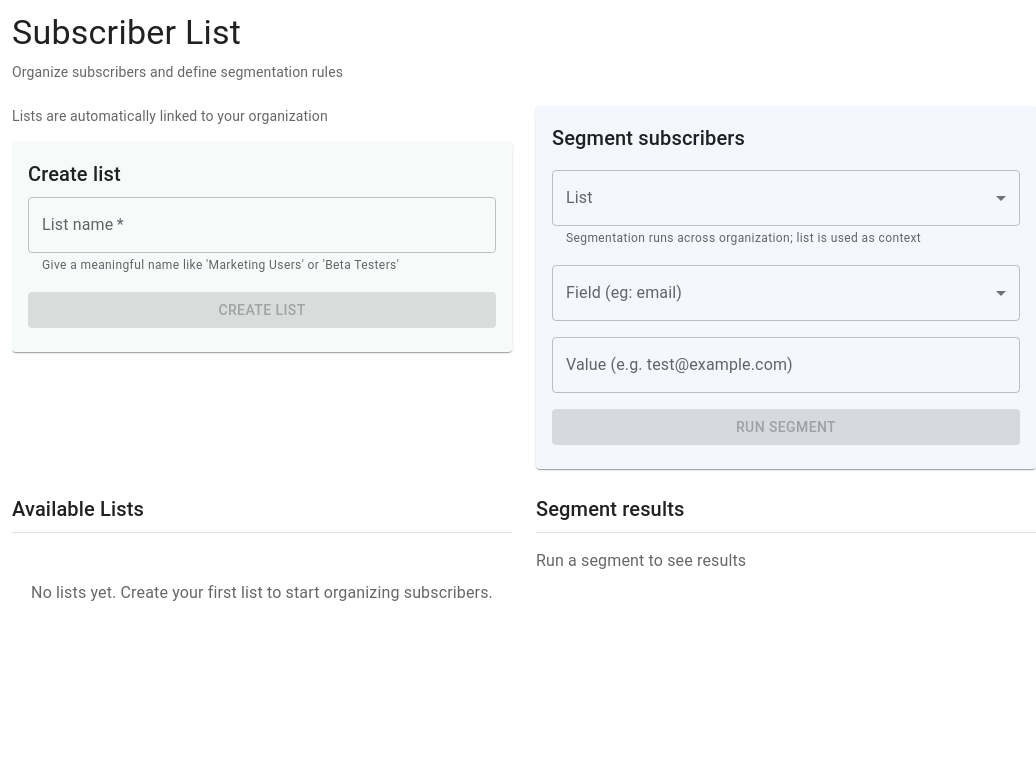
it: Lists Component - Assignment Logic › should populate available segment fields from subscribers
The image size is (1036, 780).
Clicking the Field select to see options
Press the mouse on the dropdown named "Field (eg: email)" next to "Field (eg: email)" at (786, 293), box [552, 265, 1020, 321]
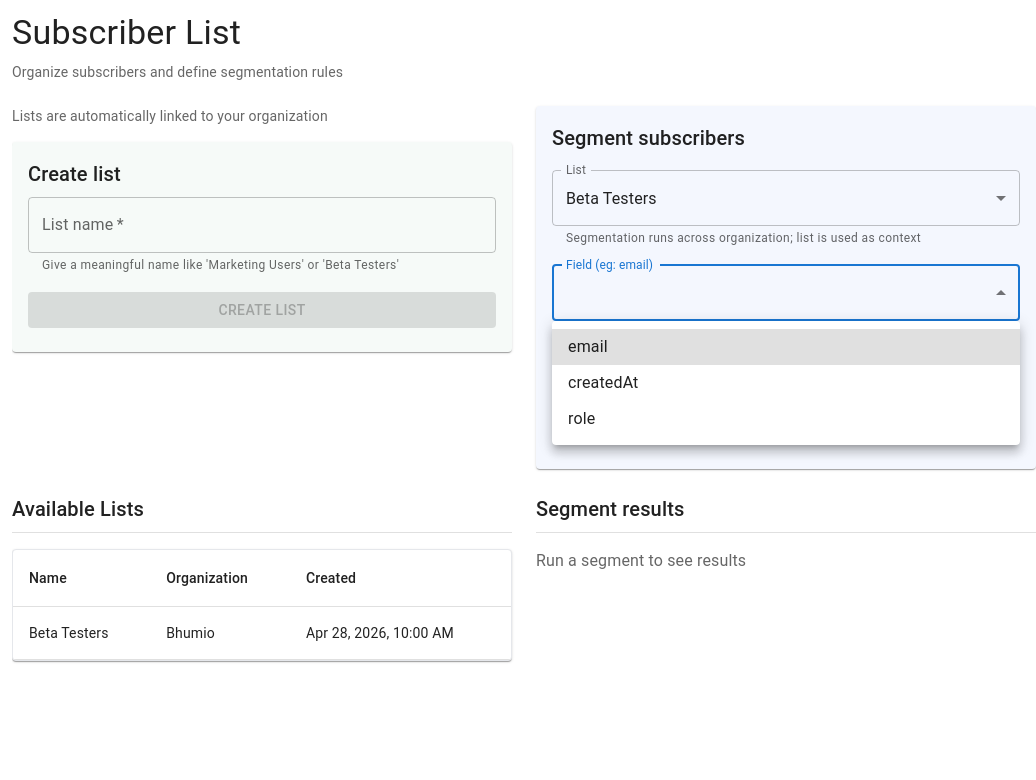
Result: the option "email" is shown at [552, 329, 1020, 365]
Result: the option "role" is shown at [568, 409, 595, 428]
